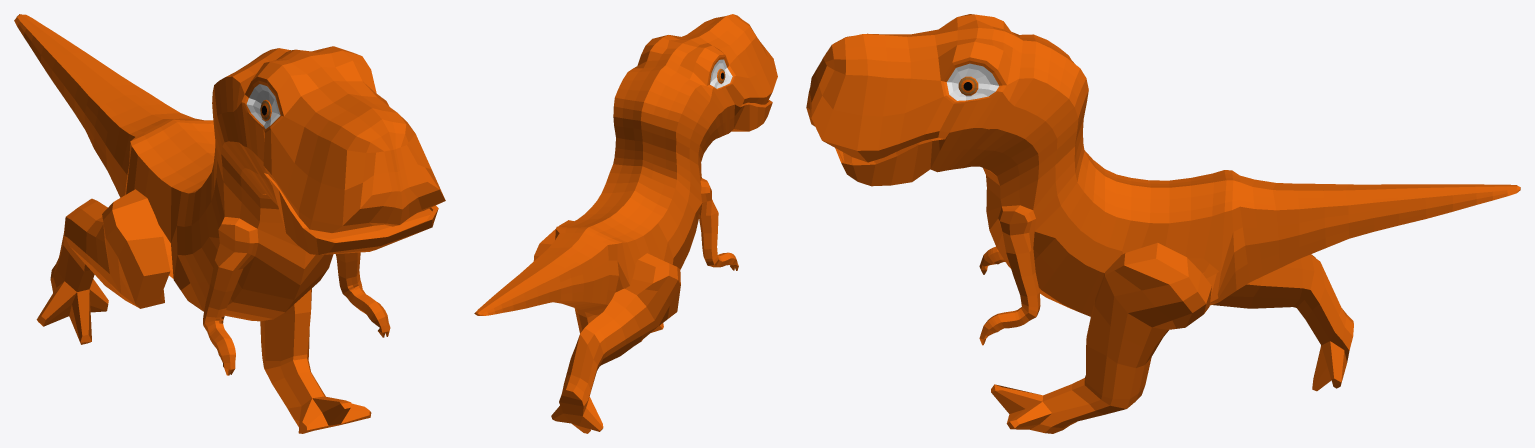
Rendered from Rex.fbx.
3 views of the same model, side by side, from view 1: azimuth 30°, elevation 25°; view 2: azimuth 150°, elevation 25°; view 3: azimuth 270°, elevation 25° (orthographic). The views are drawn at different scales.
Parts seen in each view (by area): view 1: Cuerpo.001; view 2: Cuerpo.001; view 3: Cuerpo.001.
Part boxes in pixels (x1=…): Cuerpo.001: x1=14, y1=14, x2=445, y2=433; Cuerpo.001: x1=474, y1=14, x2=777, y2=433; Cuerpo.001: x1=806, y1=14, x2=1520, y2=433.
Size of the model in its own units: 58381 by 115479 by 195518.
